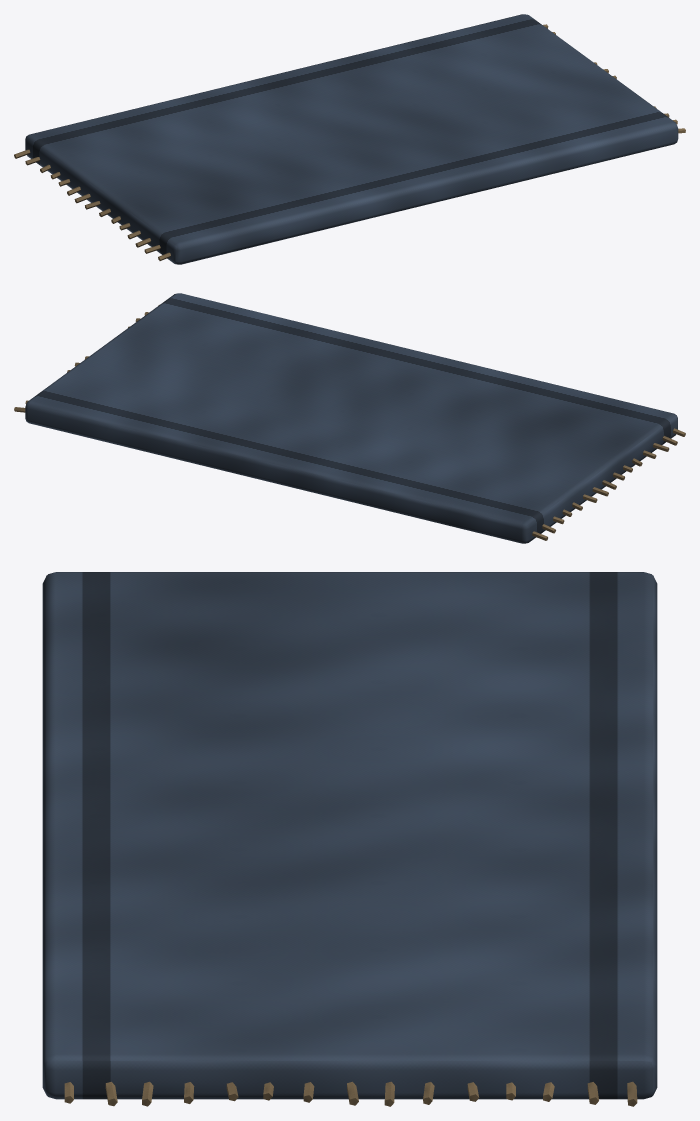
The model's file is Furn_Moment_OldMat.fbx.
3 renders of one model, top to bottom at view 1: azimuth 30°, elevation 25°; view 2: azimuth 150°, elevation 25°; view 3: azimuth 270°, elevation 25°, orthographic. The views are drawn at different scales.
Visible parts, largest first — view 1: Furn_Moment_OldMat; view 2: Furn_Moment_OldMat; view 3: Furn_Moment_OldMat.
Boxes of the visible parts, x1,y1,x2,y2 form: Furn_Moment_OldMat: (14, 14, 685, 264); Furn_Moment_OldMat: (14, 293, 685, 543); Furn_Moment_OldMat: (42, 572, 657, 1106).
Size of the model in its own units: 2 by 0.08 by 1.
Materials: 2 (2 with a texture image).
